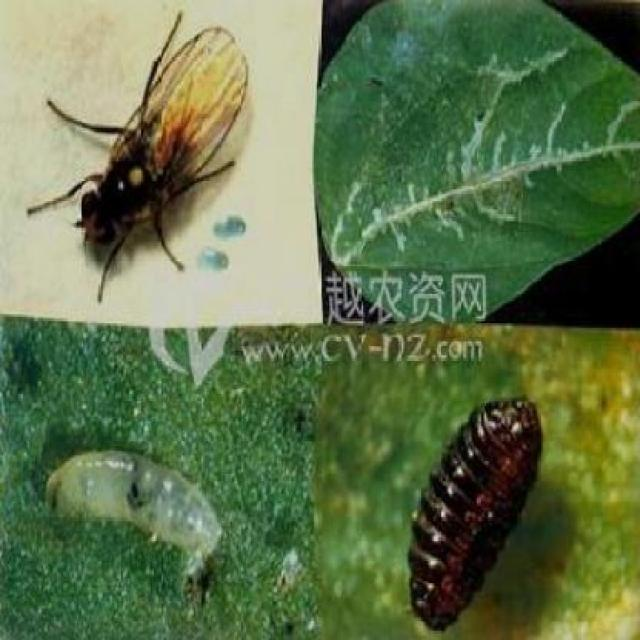whorl-maggot: (391, 388, 549, 634), (39, 438, 233, 572)
